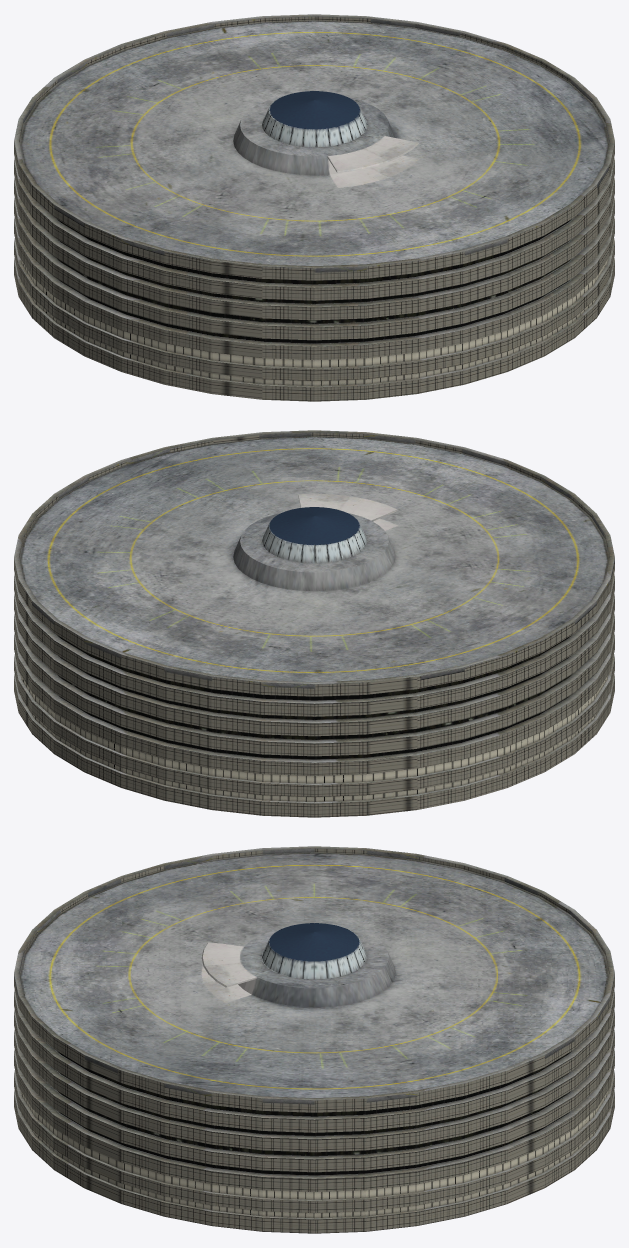
File: PARKING_REDO.gltf
3 renders of one model, top to bottom at view 1: azimuth 30°, elevation 25°; view 2: azimuth 150°, elevation 25°; view 3: azimuth 270°, elevation 25°, orthographic.
Parts seen in each view (by area): view 1: node1; view 2: node1; view 3: node1.
Boxes of the visible parts, box(x1,y1,x2,y2) form: node1: box(14, 14, 614, 401); node1: box(14, 430, 614, 817); node1: box(14, 846, 614, 1233).
Size of the model in its own units: 96.56 by 30.96 by 96.56.
